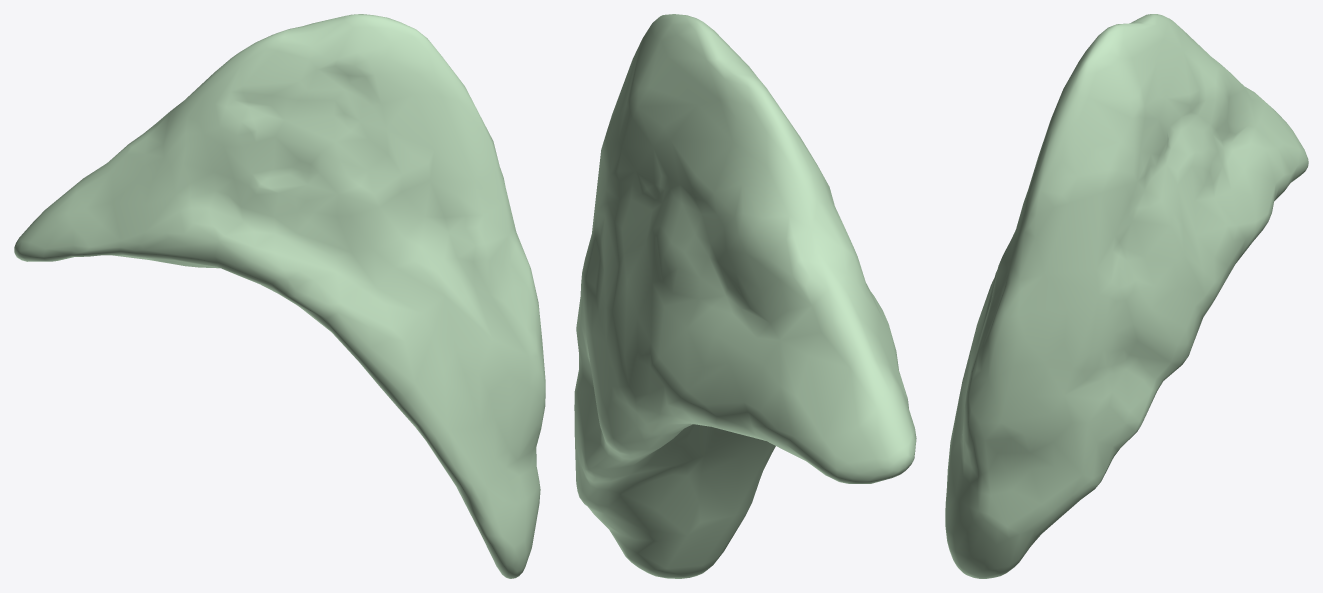
Rendered from endocrine-abdomen.hi.glb.
3 renders of one model, left to right at view 1: azimuth 30°, elevation 25°; view 2: azimuth 150°, elevation 25°; view 3: azimuth 270°, elevation 25°, orthographic. The views are drawn at different scales.
Parts seen in each view (by area): view 1: FJ3130; view 2: FJ3130; view 3: FJ3130.
Part boxes in pixels (left/top/right/bottom): FJ3130: left=14, top=14, right=545, bottom=578; FJ3130: left=574, top=14, right=916, bottom=578; FJ3130: left=945, top=14, right=1308, bottom=578.
Bounding box in the file's own units: 0.0319 × 0.0423 × 0.0272.
